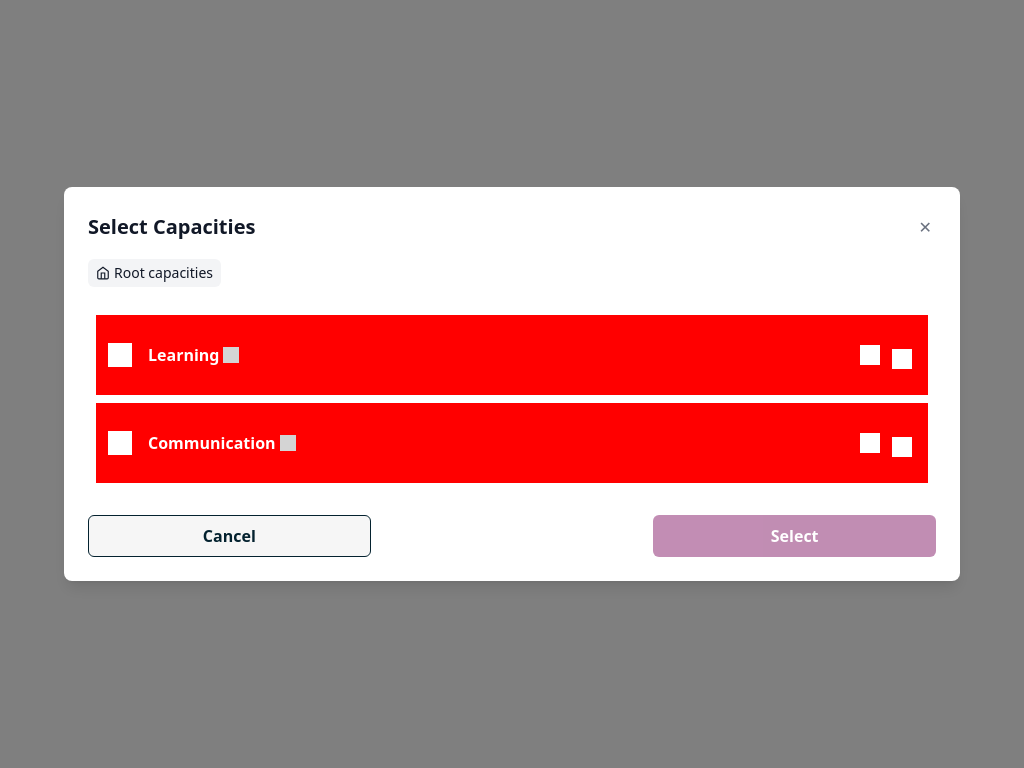
CapacitySelectionModal › Multiple Selection › should allow deselecting an already selected capacity
Expected: the text "Learning" is shown, [148,343,220,367]
Expected: the text "Communication" is shown, [148,431,276,455]
Click the button "Learning". click: (184, 355)
box: [108,341,916,369]
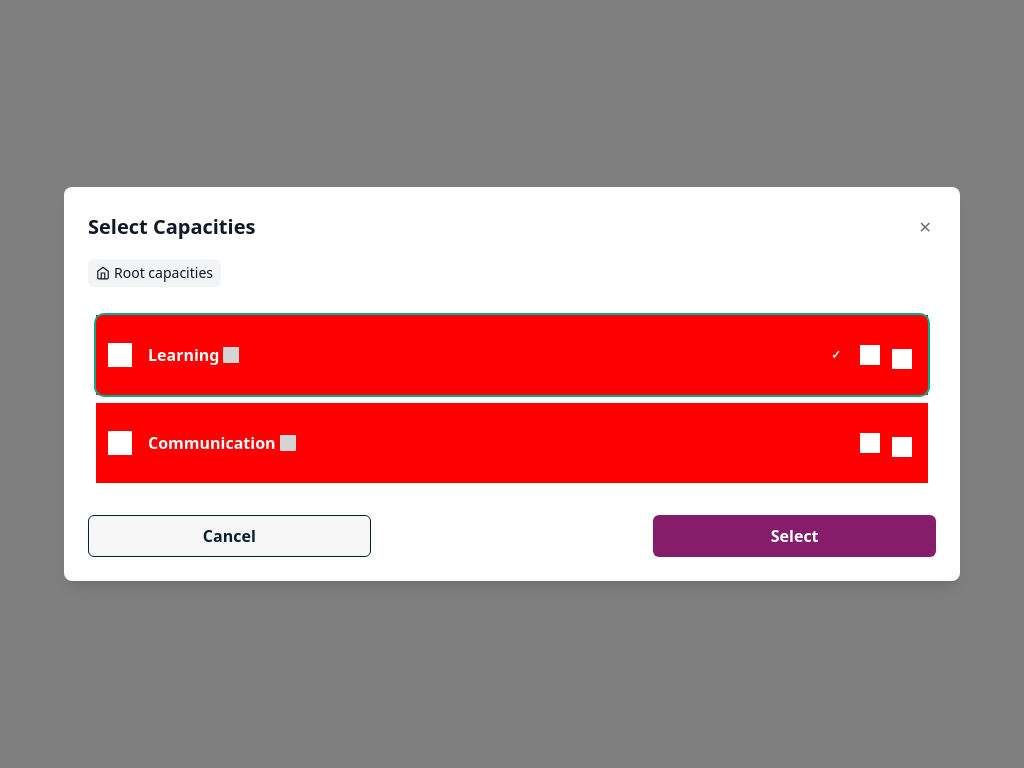
Result: the text "✓" is shown at [831,347,841,363]
Click the text "Learning". click: (194, 355)
box: [148,344,240,366]
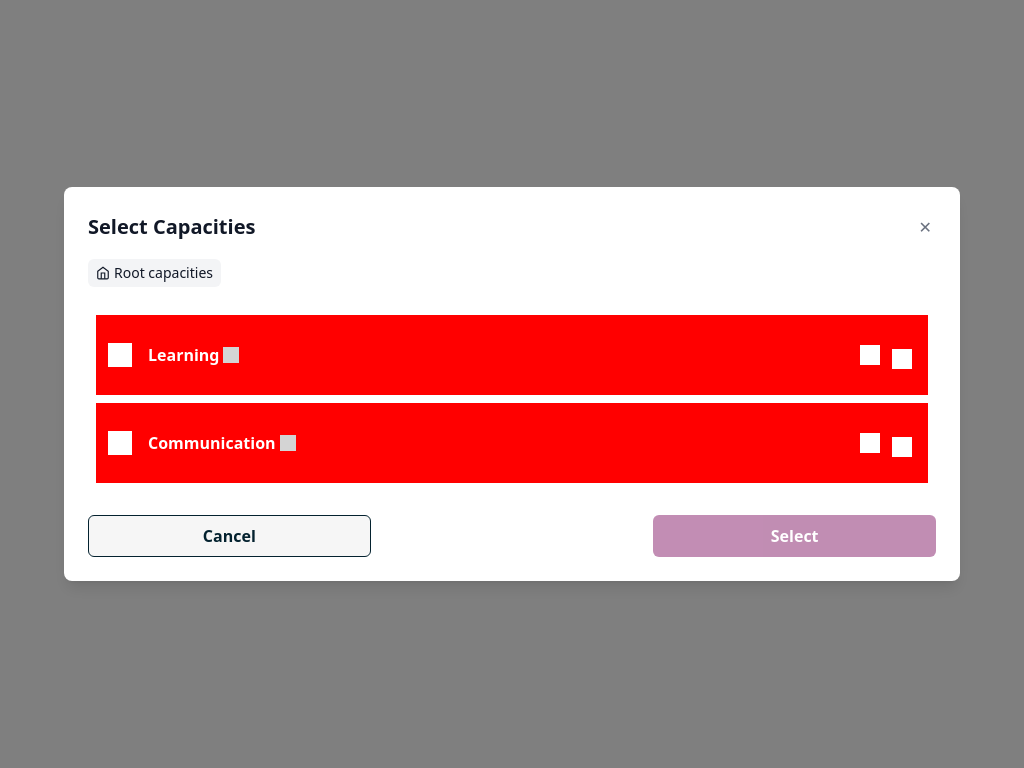
Result: the text "✓" is gone
